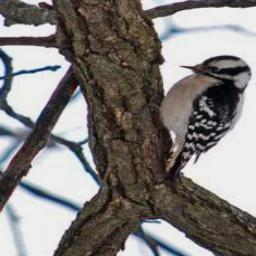Woodpecker: (136, 55, 253, 182)
